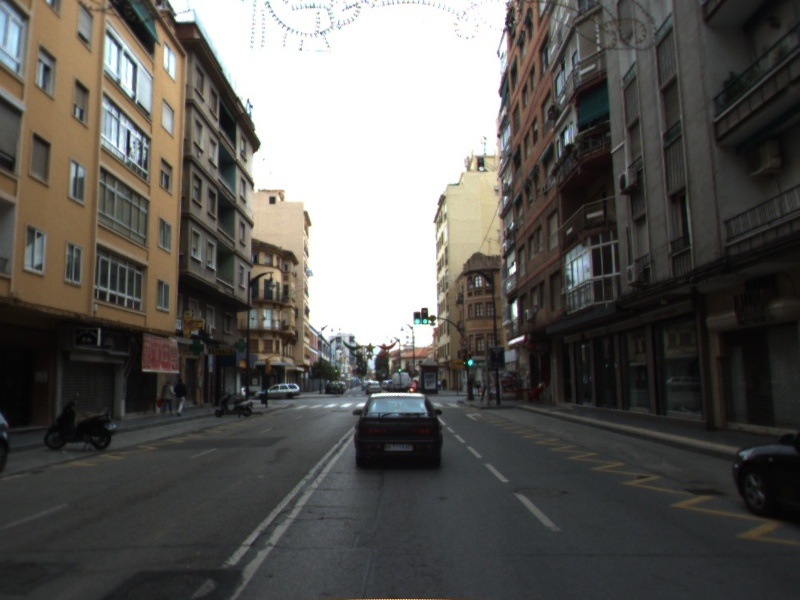RIGHT: (464, 411, 484, 422)
